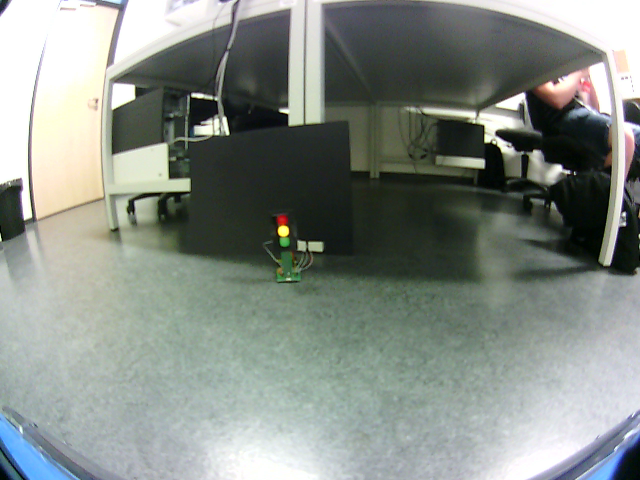yellow trafficlight: (274, 214, 292, 250)
